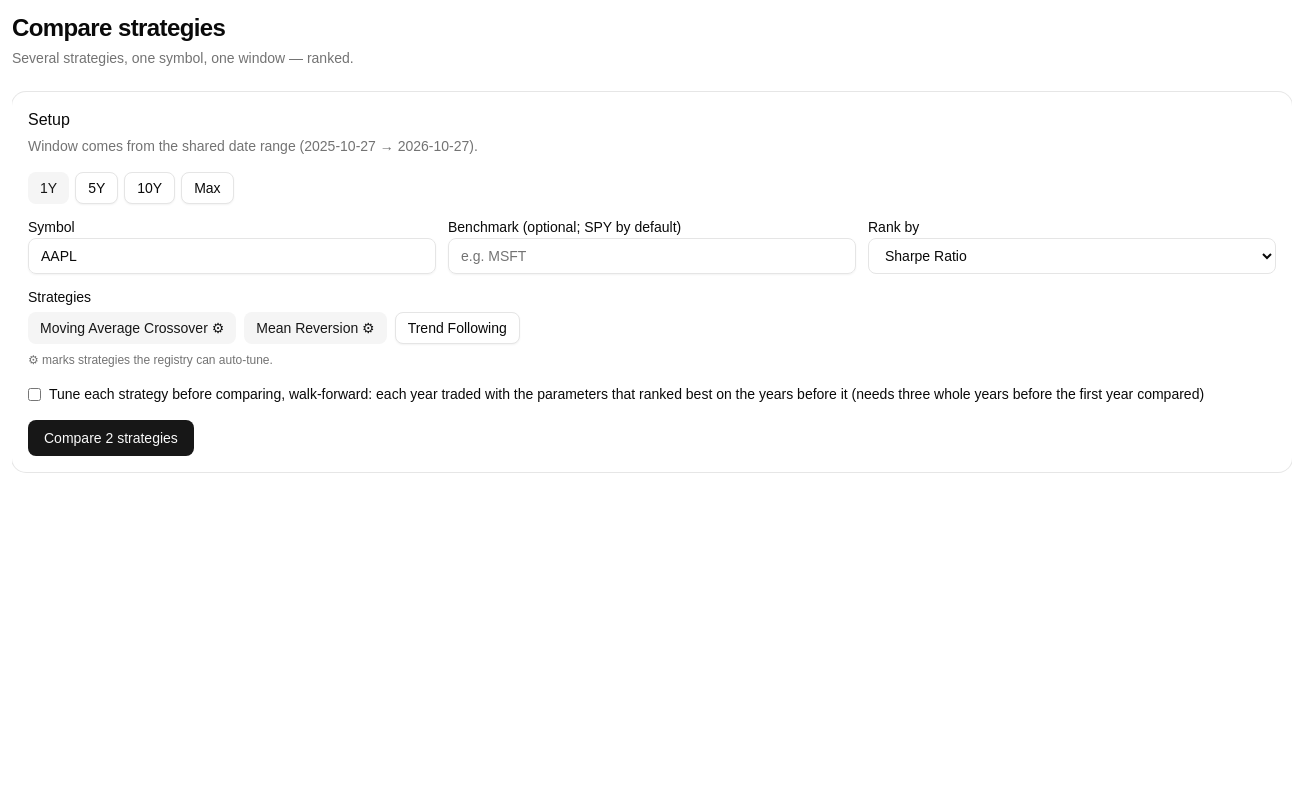
Test: ComparePage — results › badges a tuned row as walk-forward and says the span every row shares
Click the button "Compare 2 strategies" at (111, 438), box [28, 420, 194, 456]
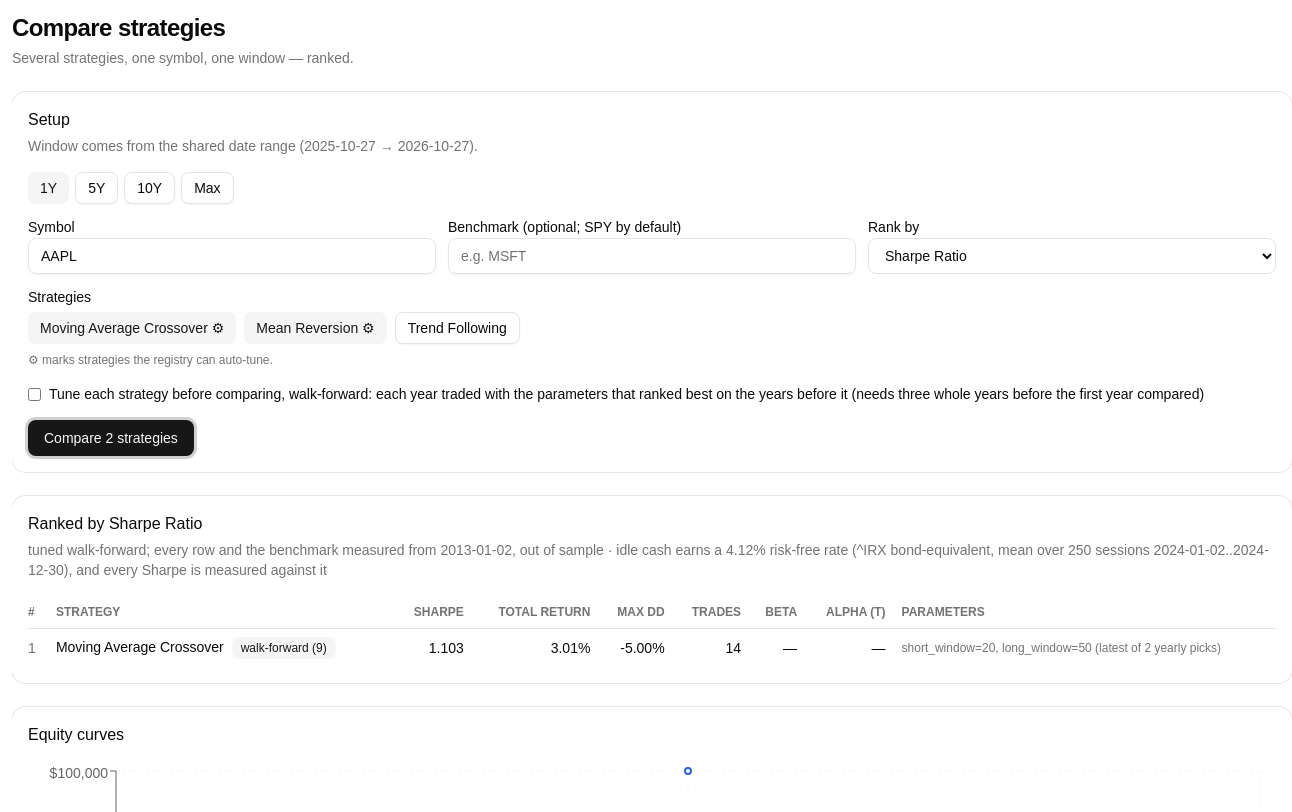
expect the text "walk-forward (9)" is shown: met, box [232, 637, 336, 659]
expect the text "measured from 2013-01-02, out of sample" is shown: met, box [28, 542, 604, 558]
expect the text "short_window=20, long_window=50 (latest of 2 yearly picks)" is shown: met, box [902, 628, 1276, 667]
